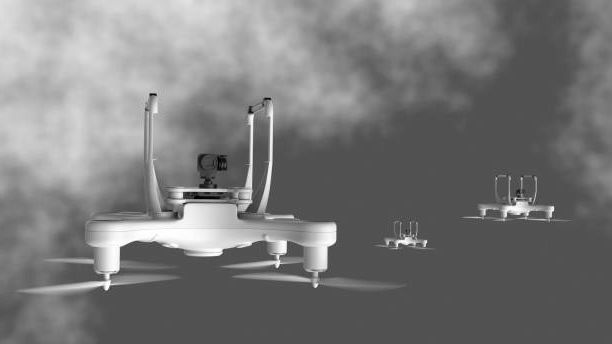Drone: (13, 86, 373, 308), (464, 172, 572, 231), (374, 214, 435, 255)
